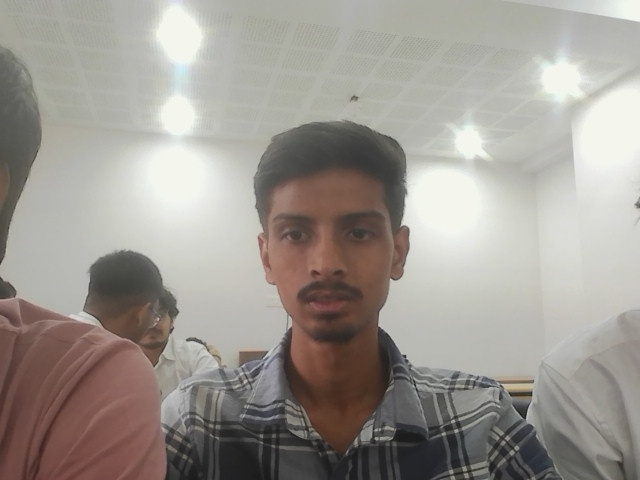light_off: (629, 6, 640, 25)
light_on: (392, 153, 467, 279), (151, 87, 203, 133), (533, 56, 574, 98), (447, 120, 486, 153)
person: (0, 10, 159, 478), (118, 284, 224, 419)
